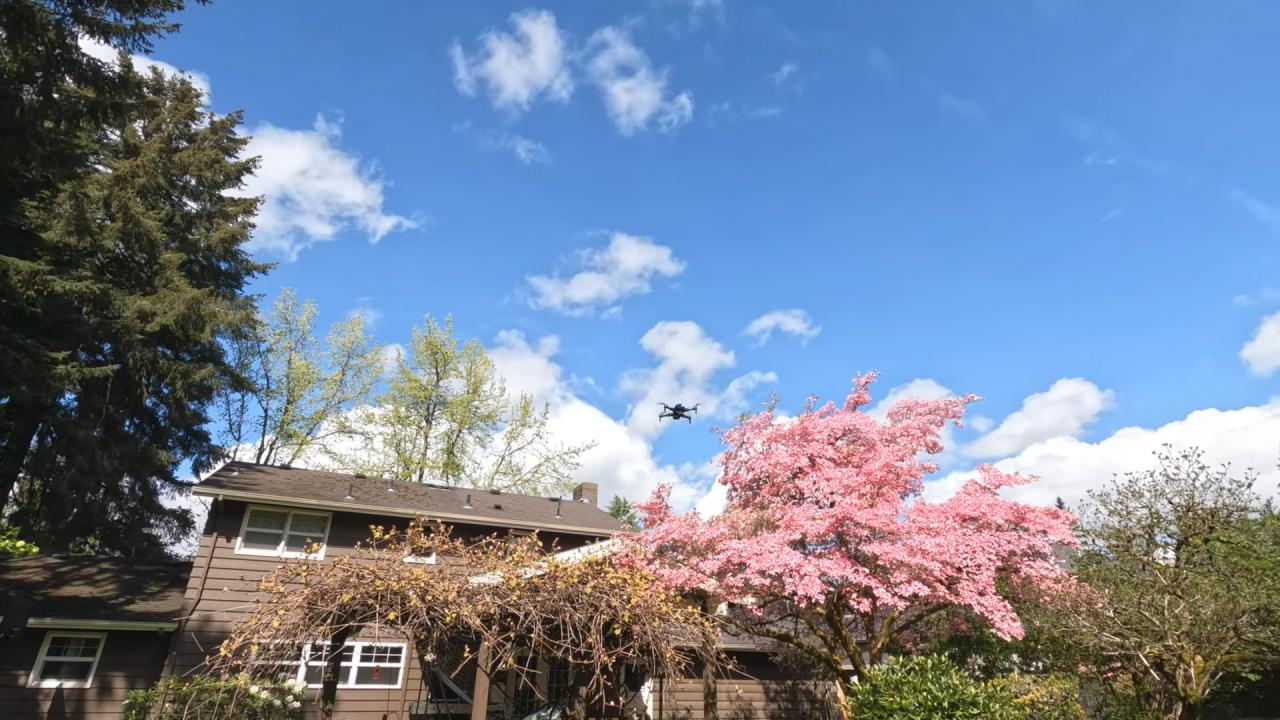Drone: (651, 392, 708, 427)
